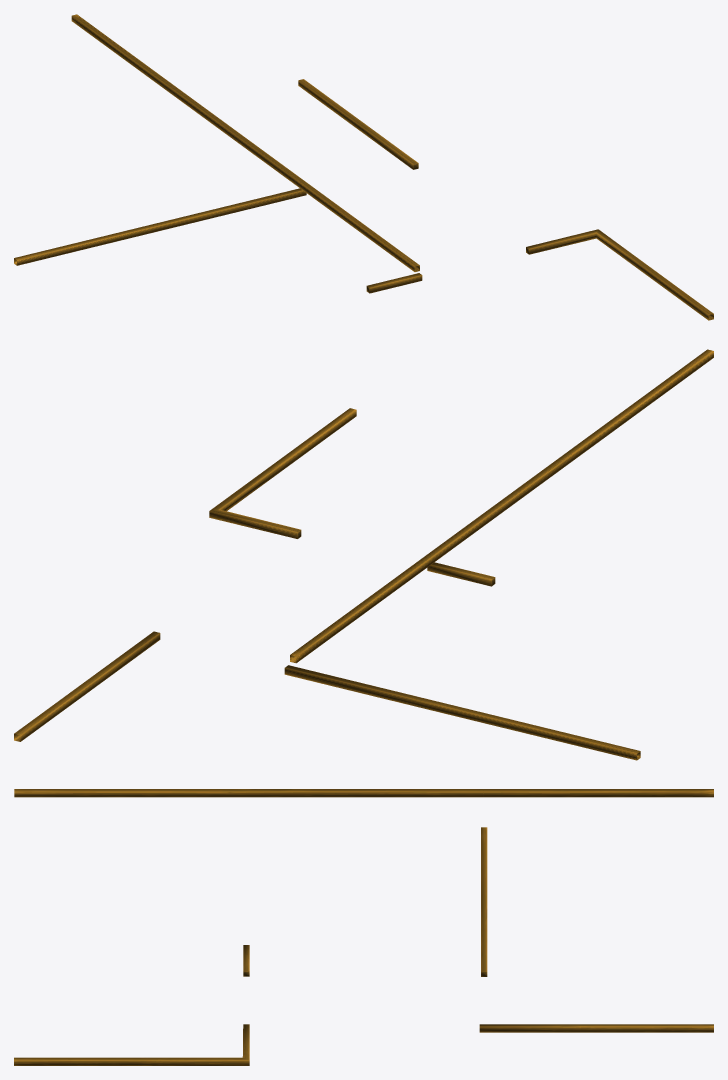
File: HTOWN01_MILLRAILINGS.fbx
3 views of the same model, one above another, from view 1: azimuth 30°, elevation 25°; view 2: azimuth 150°, elevation 25°; view 3: azimuth 270°, elevation 25° (orthographic). The views are drawn at different scales.
Parts seen in each view (by area): view 1: HTOWN01_MILLRAILINGS; view 2: HTOWN01_MILLRAILINGS; view 3: HTOWN01_MILLRAILINGS.
Boxes of the visible parts, box(x1,y1,x2,y2) form: HTOWN01_MILLRAILINGS: box(14, 14, 713, 320); HTOWN01_MILLRAILINGS: box(14, 349, 713, 760); HTOWN01_MILLRAILINGS: box(14, 789, 713, 1065).
Bounding box in the file's own units: 99077 × 25389 × 125856.
Materials: 1 (1 with a texture image).
